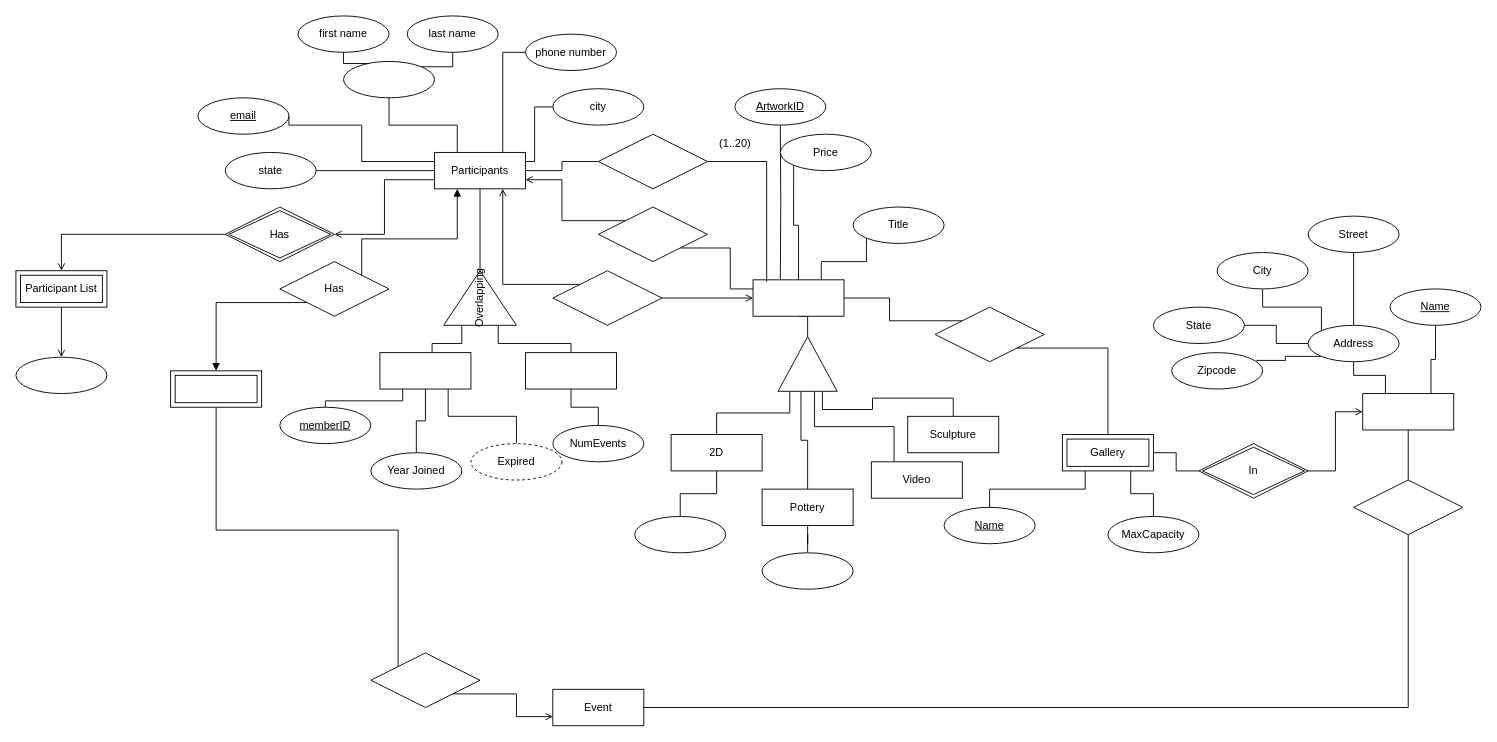
The diagram is 1497 pixels wide and 742 high, and some of its shapes have lost their labels. Each missing label, with the centre of its shape:
"Artist" goes at (571,370).
"Artwork" goes at (798,297).
"Building" goes at (1408,411).
"clay body" goes at (807,570).
"Disjoint" goes at (807,363).
"Displayed In" goes at (989,334).
"Donated by" goes at (652,234).
"For" goes at (425,680).
"Full Name" goes at (389,79).
"Held In" goes at (1408,507).
"medium" goes at (680,534).
"Member" goes at (425,370).
"Ranked" goes at (61,375).
"Ranked by" goes at (652,161).
"Ticket" goes at (216,388).
"Won By" goes at (607,297).
